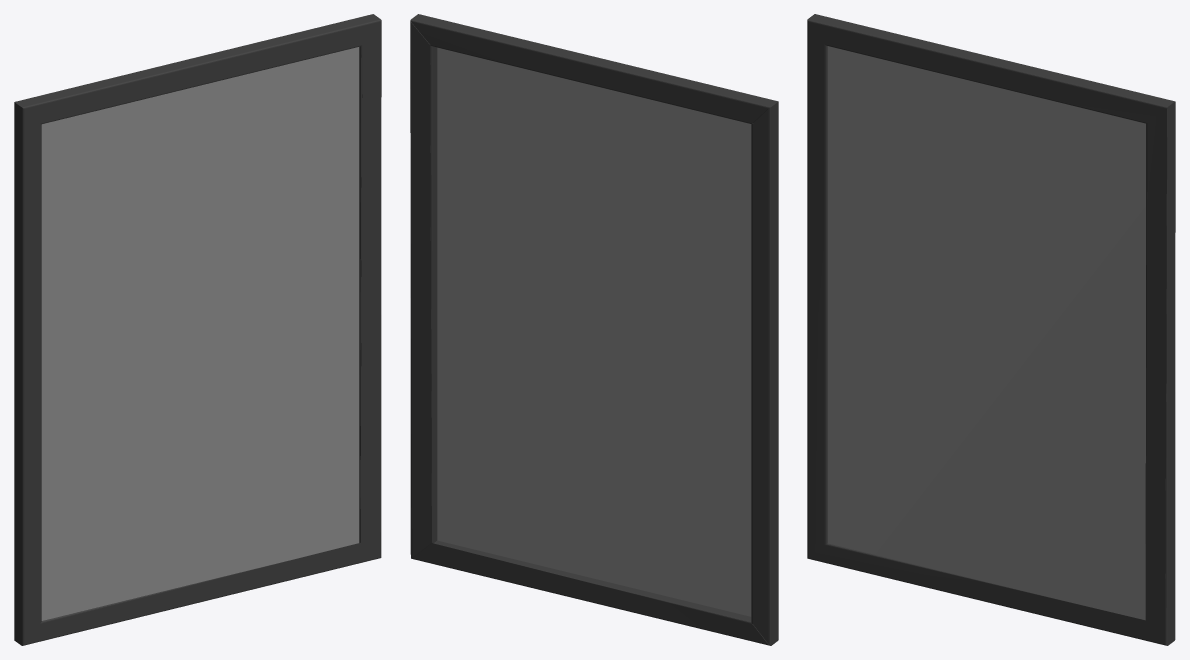
Rendered from Mirror.fbx.
3 renders of one model, left to right at view 1: azimuth 30°, elevation 25°; view 2: azimuth 150°, elevation 25°; view 3: azimuth 330°, elevation 25°, orthographic.
Visible parts, largest first — view 1: Mirror; view 2: Mirror; view 3: Mirror.
Part boxes in pixels (x1,y1,x2,y2): Mirror: (14,14,381,645); Mirror: (410,14,778,645); Mirror: (807,14,1175,645).
Bounding box in the file's own units: 53.92 × 77.12 × 2.37.
2 materials, 1 textured.
